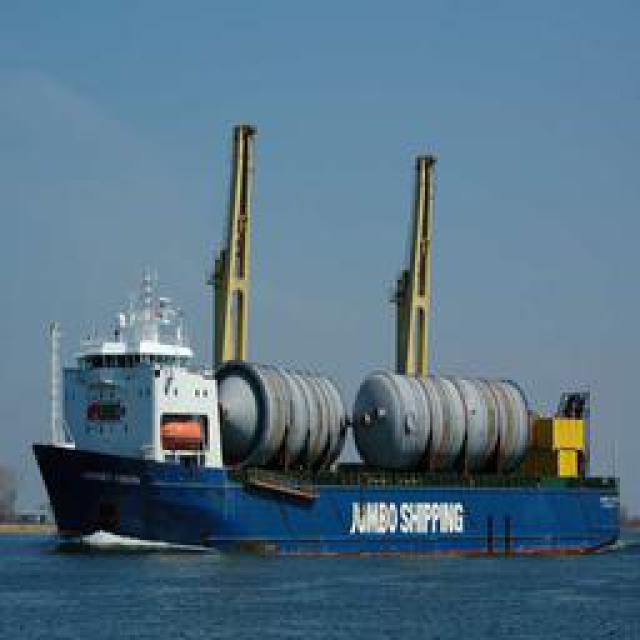Ship: (26, 95, 619, 558)
